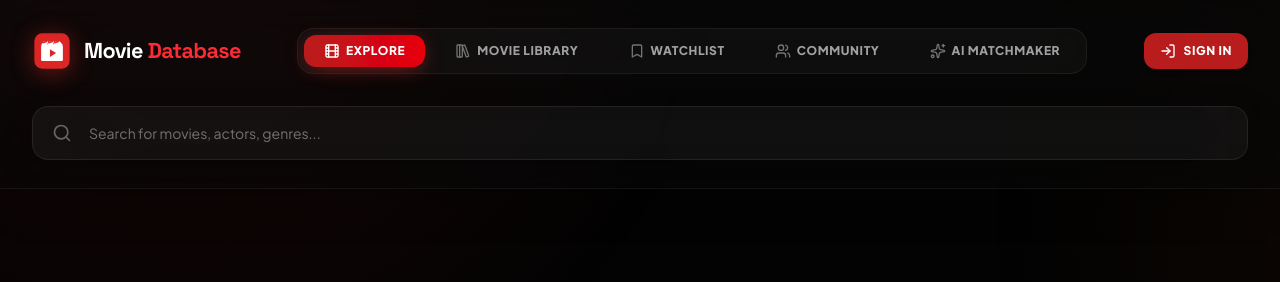
Test case: Navbar search › shows recent searches (from localStorage) when the input is empty and focused
Click the dropdown named "search movies, actors, directors": (640, 133) [32,106,1248,160]
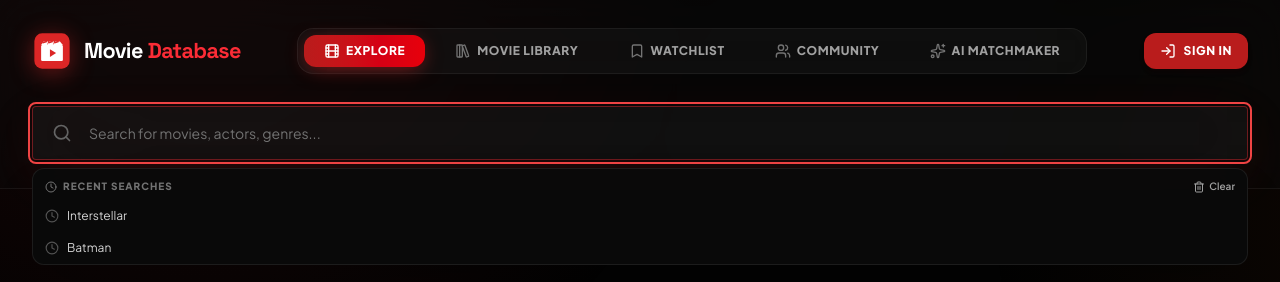
Now the text "Recent Searches" is shown, box [45,179,173,194]
Now the text "Interstellar" is shown, box [67,208,127,224]
Now the text "Batman" is shown, box [67,240,111,256]
